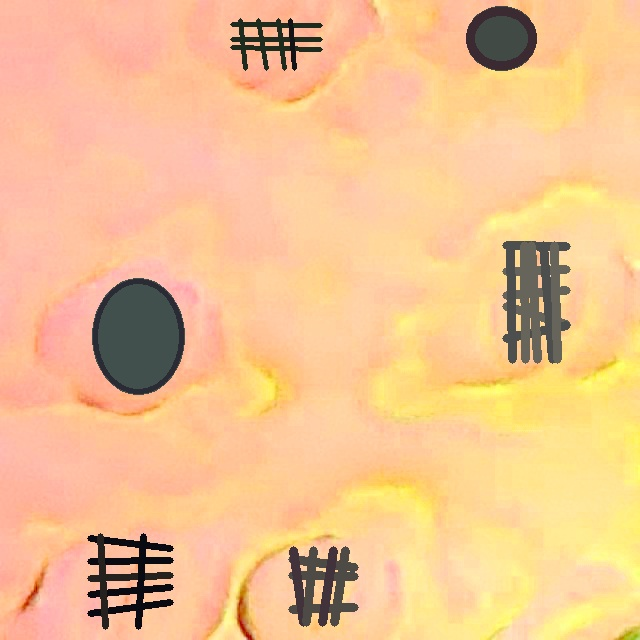close: (92, 277, 183, 394), (88, 534, 173, 629), (288, 547, 357, 625), (466, 6, 536, 70)
open: (502, 241, 570, 363), (231, 19, 322, 70)
